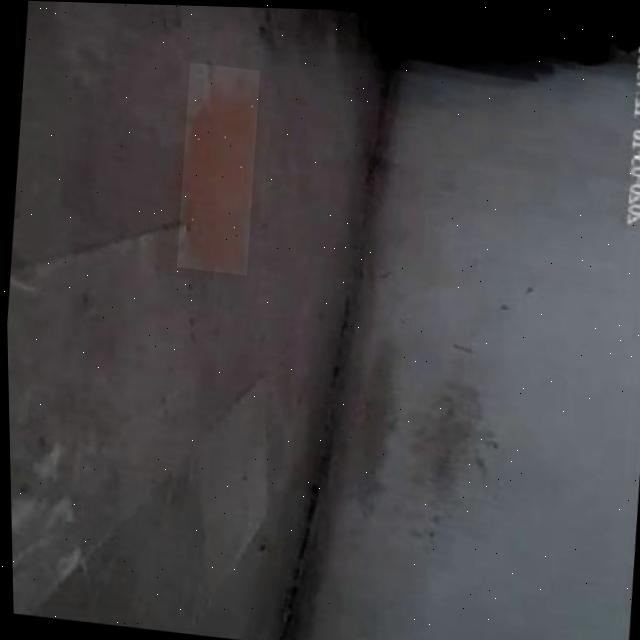spillage: (178, 63, 254, 271)
